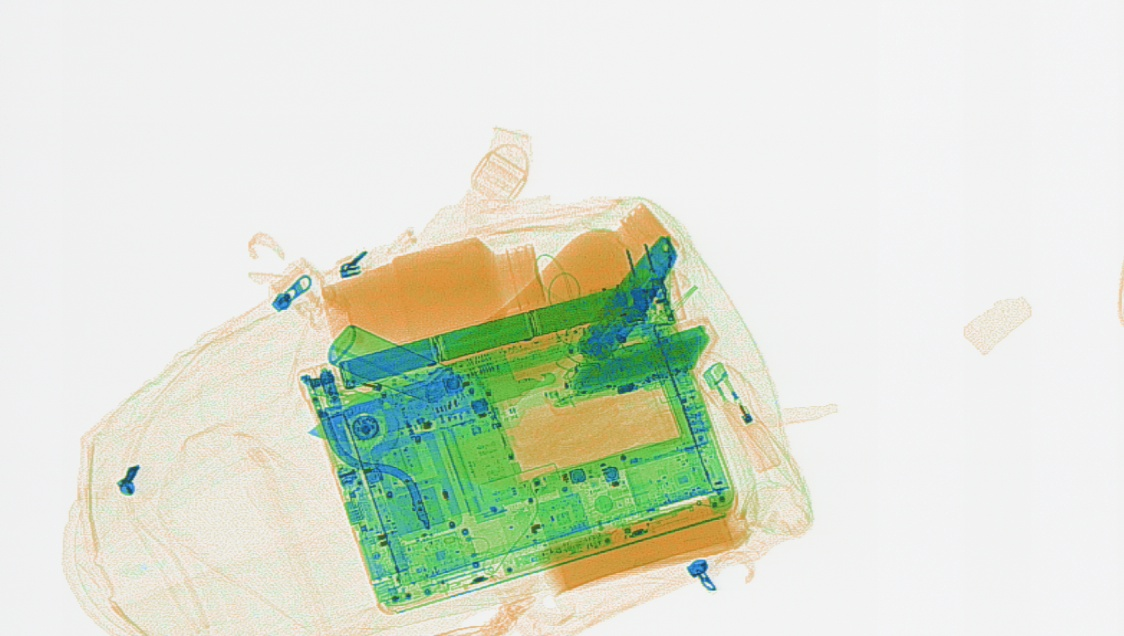knife: (303, 343, 561, 444), (575, 230, 678, 366)
lighter: (700, 358, 782, 473), (307, 361, 418, 411)
powerbank: (552, 316, 713, 400)
